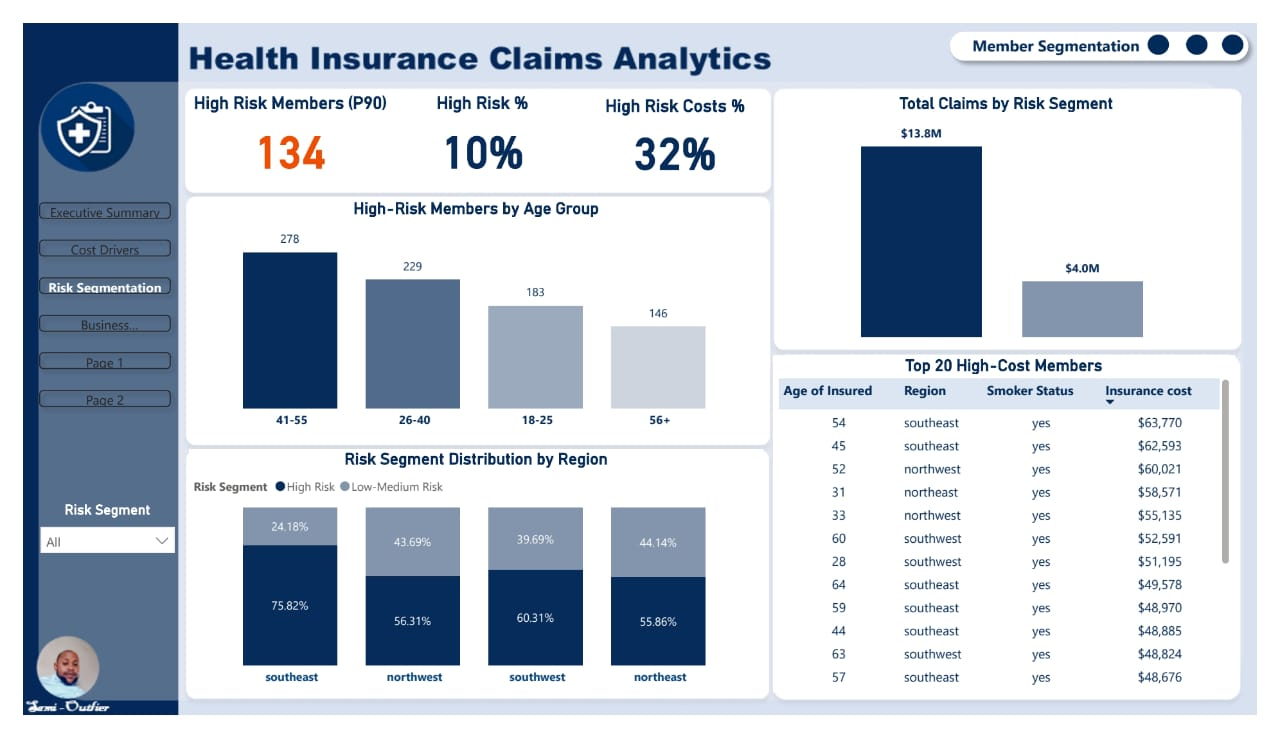

The dashboard page shown, as its layout file describes it:
{"tool":"powerbi","page":{"name":"Risk Segmentation","canvas":[1280,720],"ordinal":2},"visuals":[{"type":"shape","box":[953.3,0,326.7,48.3],"z":0},{"type":"card","title":"High Risk Members (P90)","fields":{"Values":["insurance.High Risk Members"]},"box":[172.4,71.6,209.8,94.3],"z":1000},{"type":"card","title":"High Risk %","fields":{"Values":["insurance.High Risk %"]},"box":[387.1,71.6,178.9,94.3],"z":2000},{"type":"card","title":"High Risk Costs %","fields":{"Values":["insurance.High Risk Cost %"]},"box":[583.9,74.8,185.4,91.1],"z":3000},{"type":"clusteredColumnChart","fields":{"Y":["insurance.Total Claims"],"Category":["insurance.Risk Segment"]},"box":[780.7,73.2,478.2,258.6],"z":4000},{"type":"columnChart","fields":{"Category":["insurance.Age Group"],"Y":["insurance.High-Risk Members"]},"box":[171.7,181.7,596.7,248.3],"z":5000},{"type":"hundredPercentStackedColumnChart","title":"Risk Segment Distribution by Region","fields":{"Category":["insurance.Region"],"Series":["insurance.Risk Segment"],"Y":["insurance.Member Count"]},"box":[171.7,441.7,596.7,255],"z":6000},{"type":"tableEx","title":"Top 20 High-Cost Members","fields":{"Values":["insurance.Age of Insured","insurance.Region","insurance.Smoker","insurance.Insurance cost"]},"box":[778.3,345,478.3,350],"z":7000},{"type":"slicer","title":"Risk Segment","fields":{"Values":["insurance.Risk Segment"]},"box":[8.3,496.7,158.3,61.7],"z":8000},{"type":"shape","box":[1198.3,3.3,40,38.3],"z":9000},{"type":"shape","box":[1158.3,3.3,40,38.3],"z":10000},{"type":"shape","box":[1235,3.3,40,38.3],"z":11000},{"type":"textbox","box":[980,6.7,203.3,35],"z":12000},{"type":"pageNavigator","box":[8.3,176.7,153.3,231.7],"z":13000}]}

Visuals, with their boxes in screenshot pixels (x1, y1, x2, y2), scaled from the page's 1280x720 canvas onto the 1280x740 screenshot:
shape: (953,0,1279,50)
"High Risk Members (P90)" card: (172,74,382,171)
"High Risk %" card: (387,74,566,171)
"High Risk Costs %" card: (584,77,769,171)
clusteredColumnChart - insurance.Total Claims x insurance.Risk Segment: (781,75,1259,341)
columnChart - insurance.Age Group x insurance.High-Risk Members: (172,187,768,442)
"Risk Segment Distribution by Region" hundredPercentStackedColumnChart: (172,454,768,716)
"Top 20 High-Cost Members" tableEx: (778,355,1257,714)
"Risk Segment" slicer: (8,510,167,574)
shape: (1198,3,1238,43)
shape: (1158,3,1198,43)
shape: (1235,3,1275,43)
textbox: (980,7,1183,43)
pageNavigator: (8,182,162,420)
